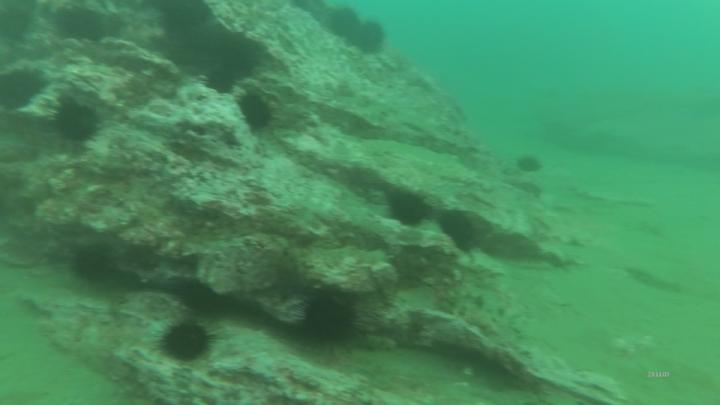echinus: (297, 284, 360, 355), (42, 96, 106, 148), (160, 316, 210, 365), (382, 185, 433, 233), (437, 205, 483, 257), (235, 89, 283, 137), (69, 243, 115, 286), (355, 18, 393, 58), (321, 5, 359, 45), (199, 66, 241, 99)
